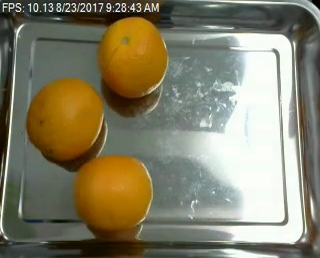Orange: (25, 76, 104, 159), (72, 155, 153, 233), (96, 15, 167, 97)
